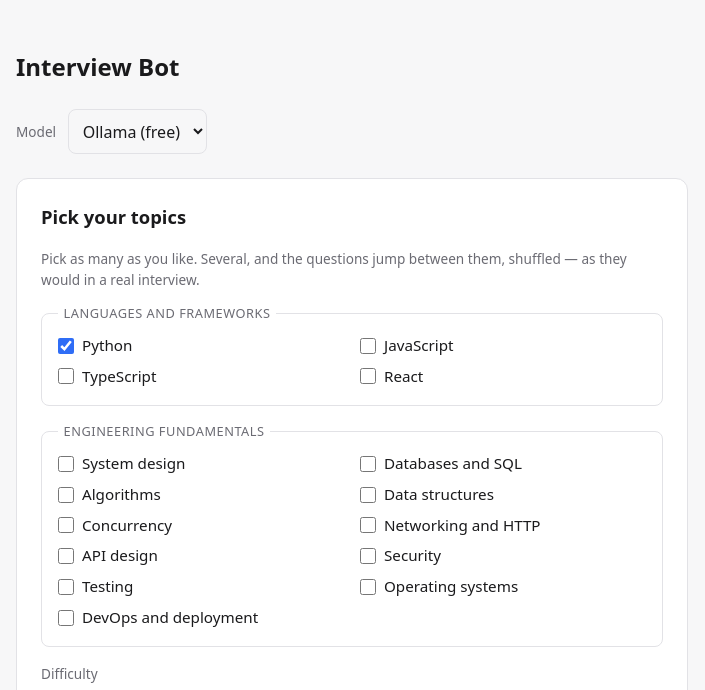
Scenario: the model picker › starts the interview on the model that was picked
Select "Claude" in the dropdown labelled "Model". click: (138, 132)
box: [68, 109, 207, 154]
(page scrolled)
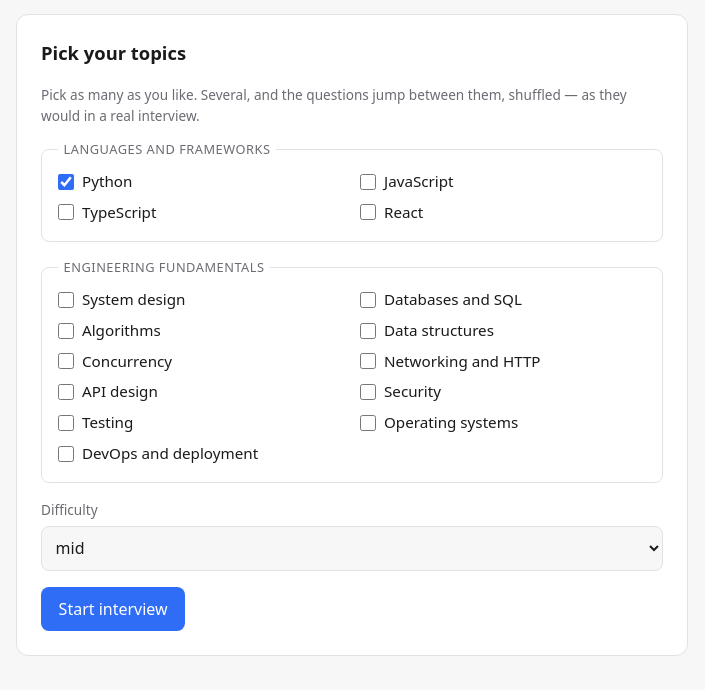
Click the button "Start interview". click: (113, 609)
box: [41, 587, 185, 631]
(page scrolled)
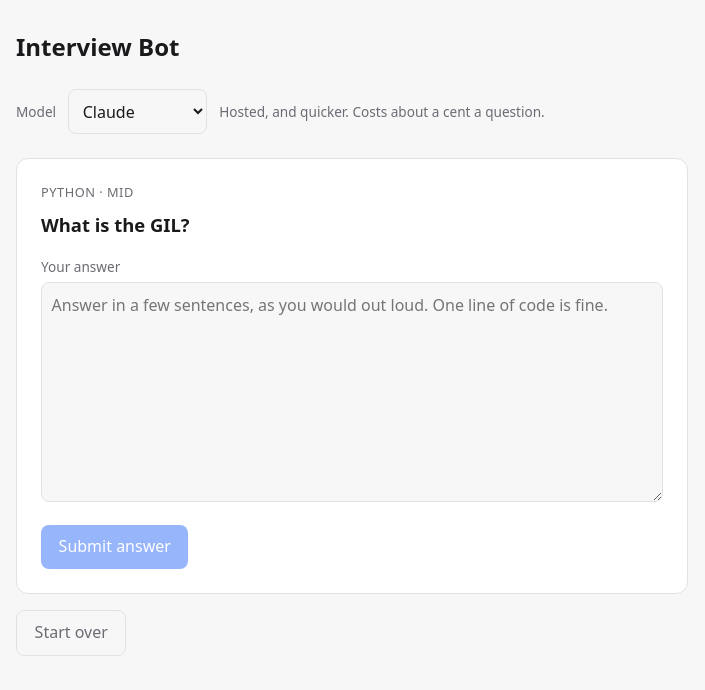
Expected: the heading "What is the GIL?" is shown, [41, 212, 190, 237]
